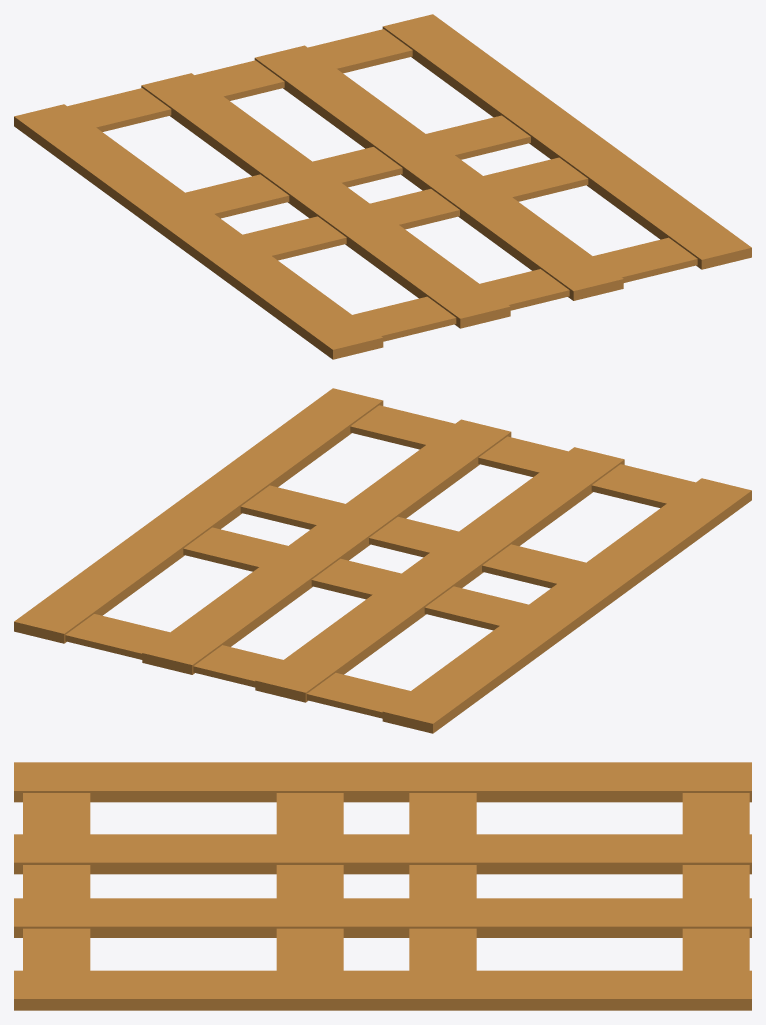
The model's file is madera.fbx.
The picture shows the model from 3 angles, top to bottom: view 1: azimuth 30°, elevation 25°; view 2: azimuth 150°, elevation 25°; view 3: azimuth 270°, elevation 25°; orthographic projection. The views are drawn at different scales.
Parts seen in each view (by area): view 1: Cube; view 2: Cube; view 3: Cube.
Boxes of the visible parts, x1,y1,x2,y2 form: Cube: [14, 14, 751, 359]; Cube: [14, 388, 751, 733]; Cube: [14, 762, 751, 1010].
Bounding box in the file's own units: 619 × 13.97 × 816.
1 material, 1 textured.
